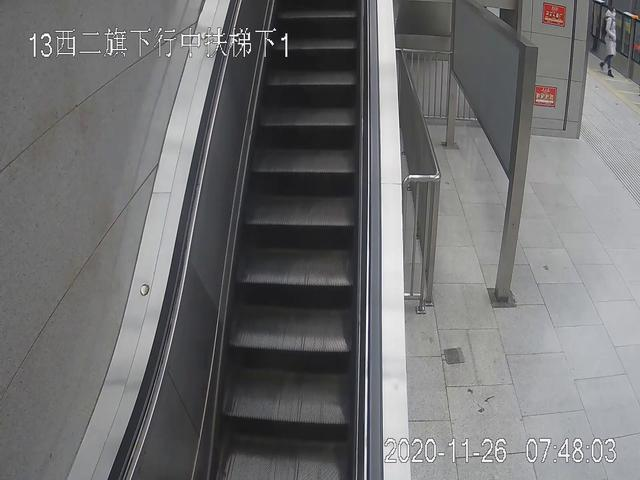person: (599, 7, 624, 77)
